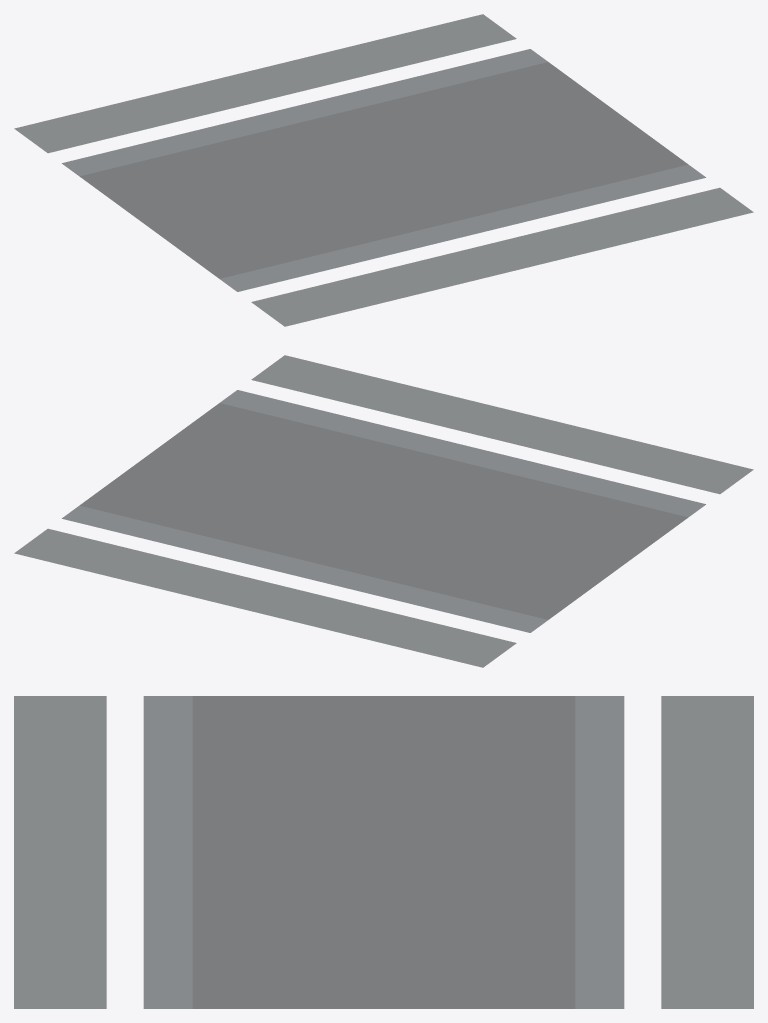
Rendered from Ceiling_type_B_009.glb.
The picture shows the model from 3 angles, top to bottom: view 1: azimuth 30°, elevation 25°; view 2: azimuth 150°, elevation 25°; view 3: azimuth 270°, elevation 25°; orthographic projection. The views are drawn at different scales.
Parts seen in each view (by area): view 1: Ceiling_type_B_009; view 2: Ceiling_type_B_009; view 3: Ceiling_type_B_009.
Part boxes in pixels (<box>): Ceiling_type_B_009: <box>14,14,753,326</box>; Ceiling_type_B_009: <box>14,355,753,667</box>; Ceiling_type_B_009: <box>14,696,753,1008</box>.
Size of the model in its own units: 4 by 0.0455 by 4.
Materials: 2 (2 with a texture image).
